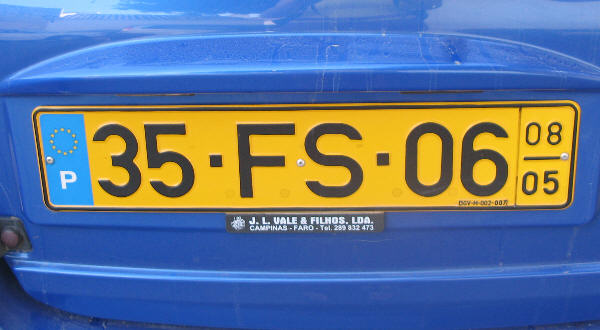license_plate: (32, 101, 579, 212)
